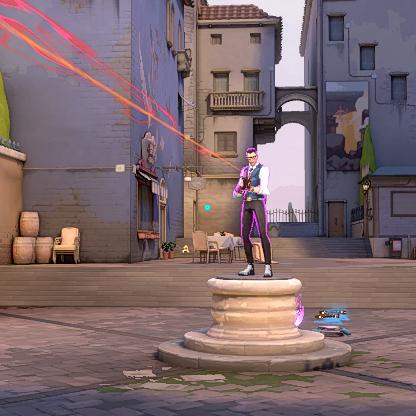enemyBody: (245, 169, 264, 195)
enemyHead: (248, 151, 257, 164)
